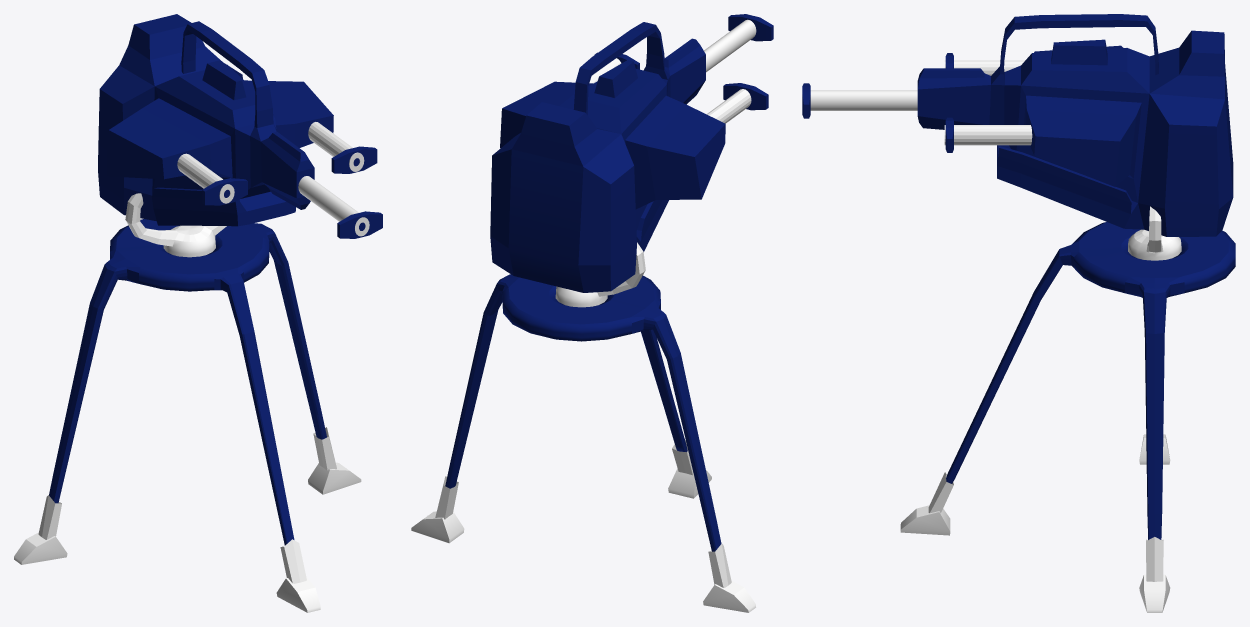
File: TorreFranco2.fbx
3 renders of one model, left to right at view 1: azimuth 30°, elevation 25°; view 2: azimuth 150°, elevation 25°; view 3: azimuth 270°, elevation 25°, orthographic. The views are drawn at different scales.
Visible parts, largest first — view 1: Cuerpo, Tripode; view 2: Cuerpo, Tripode; view 3: Cuerpo, Tripode.
Boxes of the visible parts, box(x1,y1,x2,y2) form: Cuerpo: box(98, 14, 382, 238); Tripode: box(14, 193, 361, 612); Cuerpo: box(490, 14, 773, 292); Tripode: box(411, 242, 755, 612); Cuerpo: box(802, 14, 1233, 236); Tripode: box(900, 206, 1235, 612).
Bounding box in the file's own units: 40.05 × 56.5 × 43.32.
